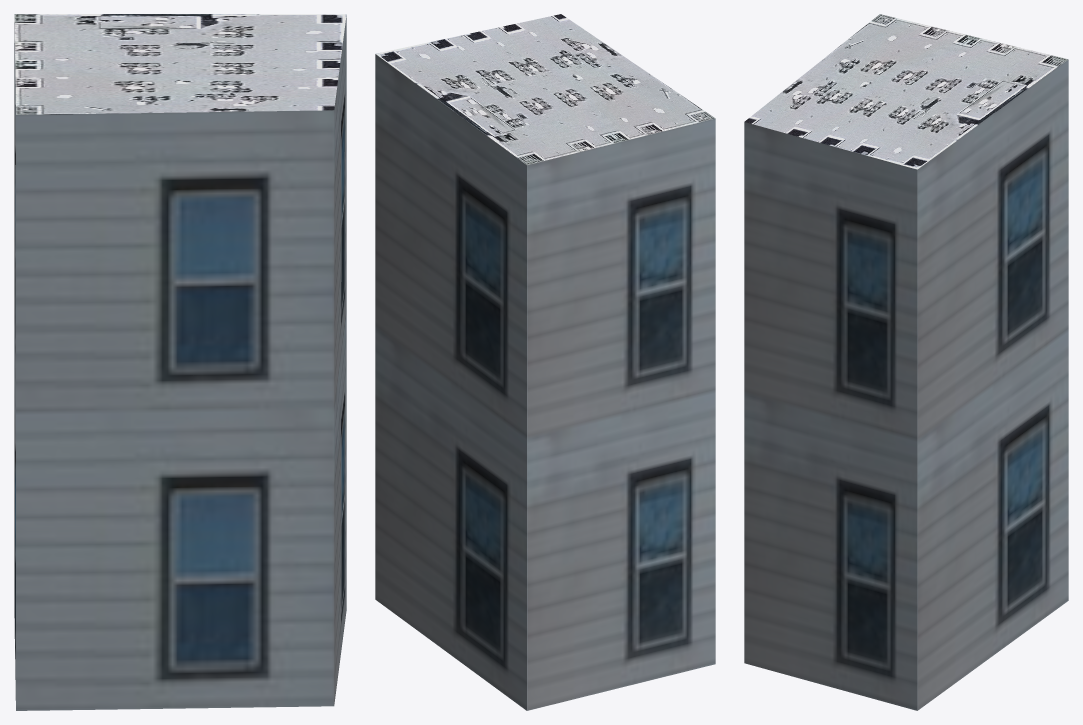
File: ResTex__777.fbx
3 views of the same model, side by side, from view 1: azimuth 30°, elevation 25°; view 2: azimuth 150°, elevation 25°; view 3: azimuth 270°, elevation 25° (orthographic). The views are drawn at different scales.
Visible parts, largest first — view 1: CityEngineMaterial_18_m, CityEngineMaterial_2_m; view 2: CityEngineMaterial_18_m, CityEngineMaterial_2_m; view 3: CityEngineMaterial_18_m, CityEngineMaterial_2_m.
Part boxes in pixels (box(x1,y1,x2,y2)): CityEngineMaterial_18_m: box(14, 15, 346, 710); CityEngineMaterial_2_m: box(14, 14, 346, 114); CityEngineMaterial_18_m: box(375, 54, 715, 710); CityEngineMaterial_2_m: box(375, 14, 715, 164); CityEngineMaterial_18_m: box(744, 59, 1068, 710); CityEngineMaterial_2_m: box(744, 14, 1068, 169).
Size of the model in its own units: 3.7 by 6 by 3.26.
Materials: 2 (2 with a texture image).
